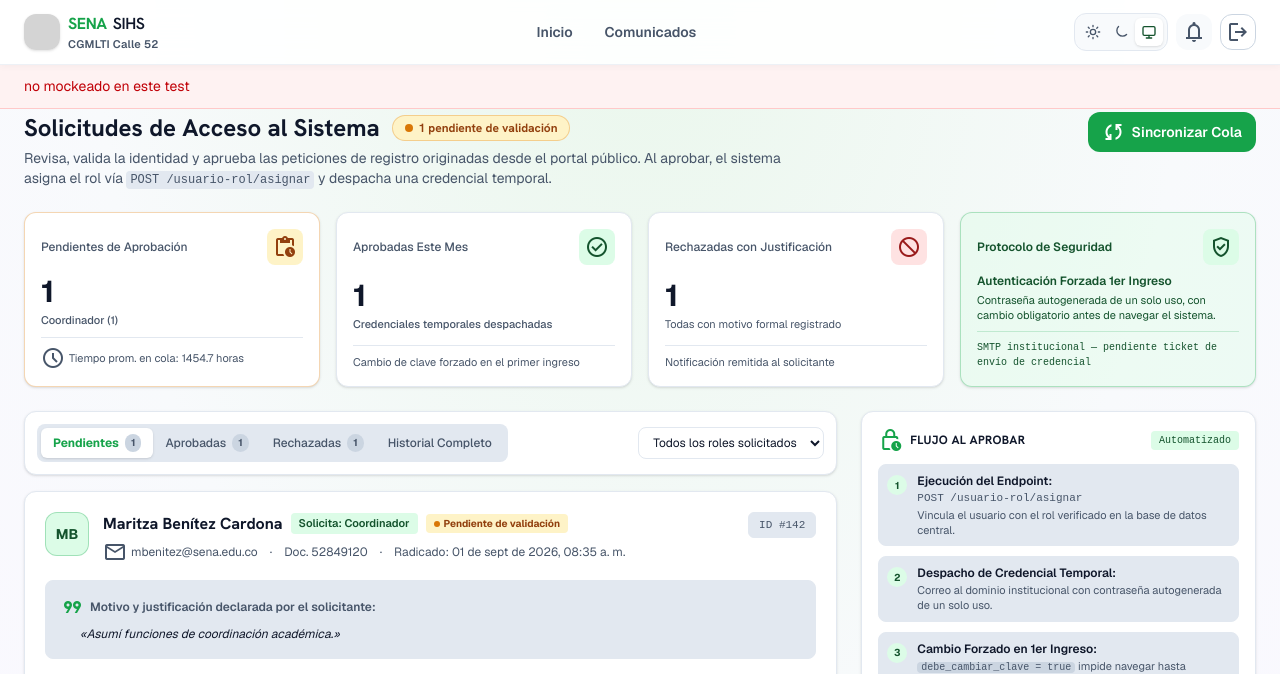
Test: PanelAdministracion › tabs: Pendientes/Aprobadas/Rechazadas/Historial Completo filtran la lista visible
Expected: the heading "Maritza Benítez Cardona" is shown, [103,512,282,536]
Expected: the heading "Carlos Morales" is not shown
Click the button "Aprobadas 1" at (207, 443), box [154,428,261,458]
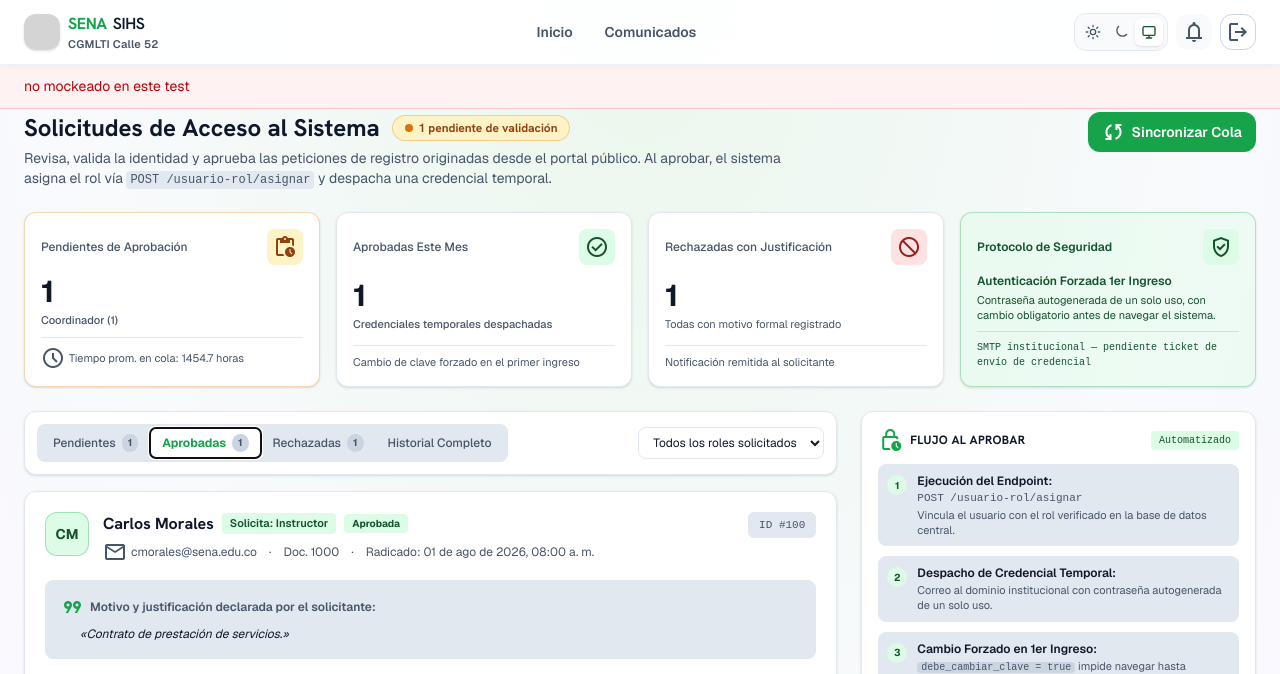
Result: the heading "Carlos Morales" is shown at [103,512,214,536]
Result: the heading "Maritza Benítez Cardona" is gone
Click the button "Historial Completo" at (440, 443), box [376,428,504,458]
(page scrolled)
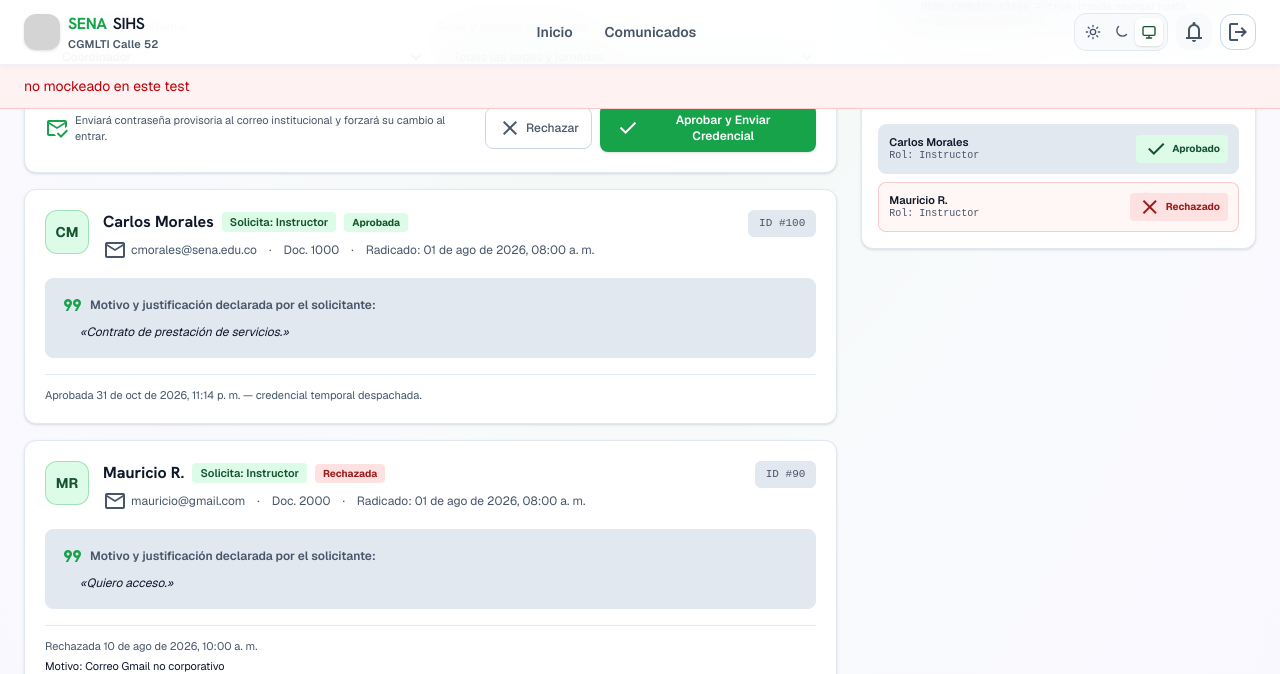
Result: the heading "Carlos Morales" is shown at [103,210,214,234]
Result: the heading "Mauricio R." is shown at [103,461,184,485]
